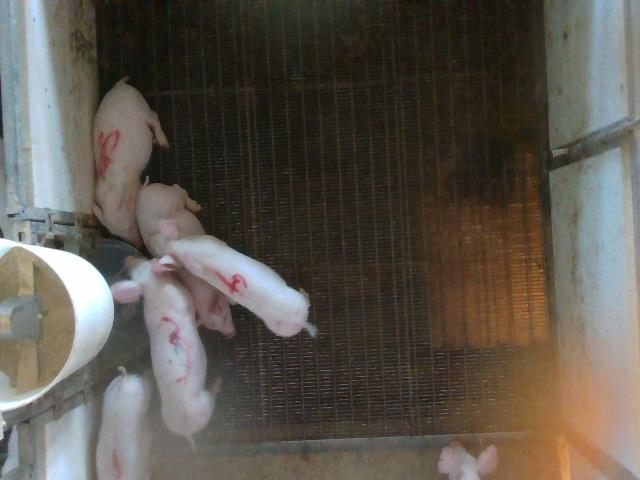pig-1: (96, 366, 152, 479)
pig-3: (111, 258, 215, 447)
pig-4: (146, 220, 316, 336)
pig-5: (92, 78, 169, 247)
